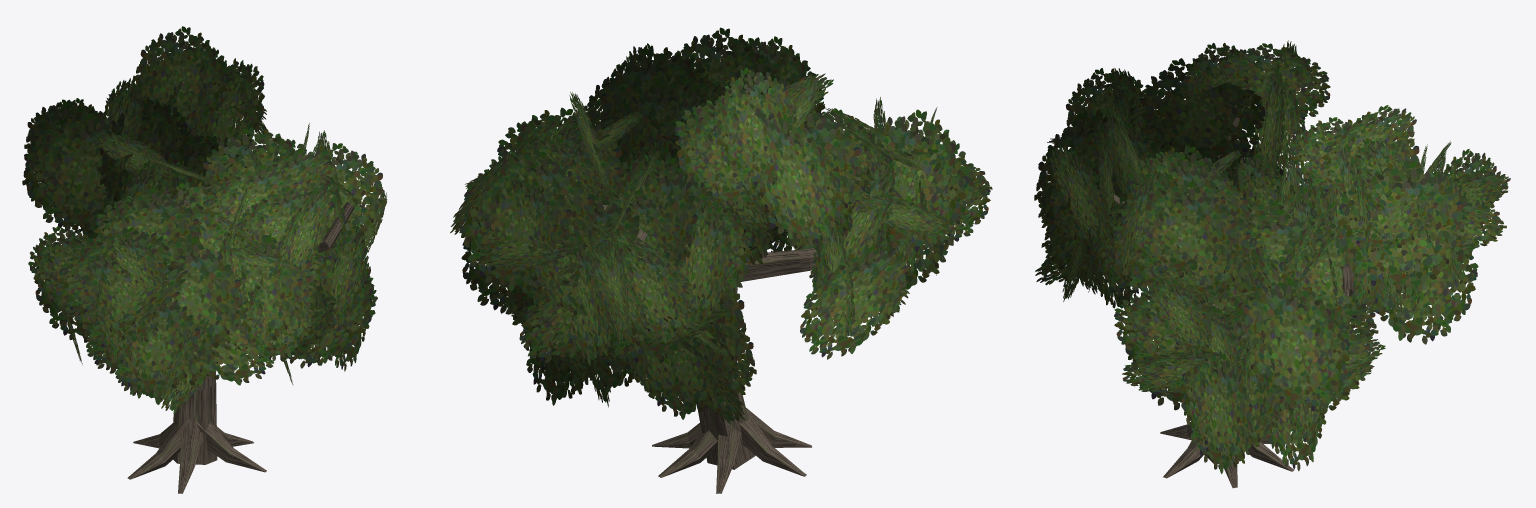
File: TwistedTree_3_LOD1.gltf
3 renders of one model, left to right at view 1: azimuth 30°, elevation 25°; view 2: azimuth 150°, elevation 25°; view 3: azimuth 270°, elevation 25°, orthographic. The views are drawn at different scales.
Parts seen in each view (by area): view 1: TwistedTree_3_LOD1; view 2: TwistedTree_3_LOD1; view 3: TwistedTree_3_LOD1.
Boxes of the visible parts, x1,y1,x2,y2 form: TwistedTree_3_LOD1: (22,26,387,493); TwistedTree_3_LOD1: (450,27,992,493); TwistedTree_3_LOD1: (1034,40,1510,488).
Size of the model in its own units: 17.18 by 16.28 by 18.27.
Materials: 2 (2 with a texture image).
